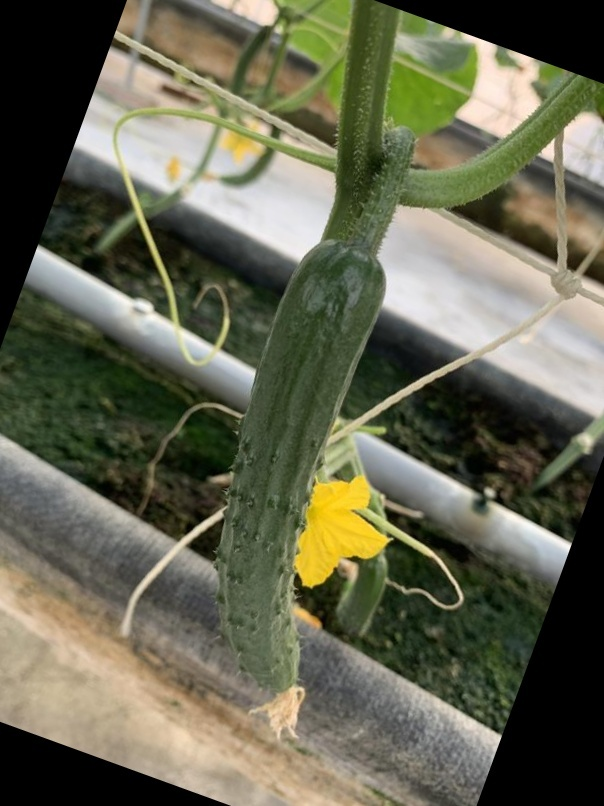mature: (214, 240, 389, 731)
